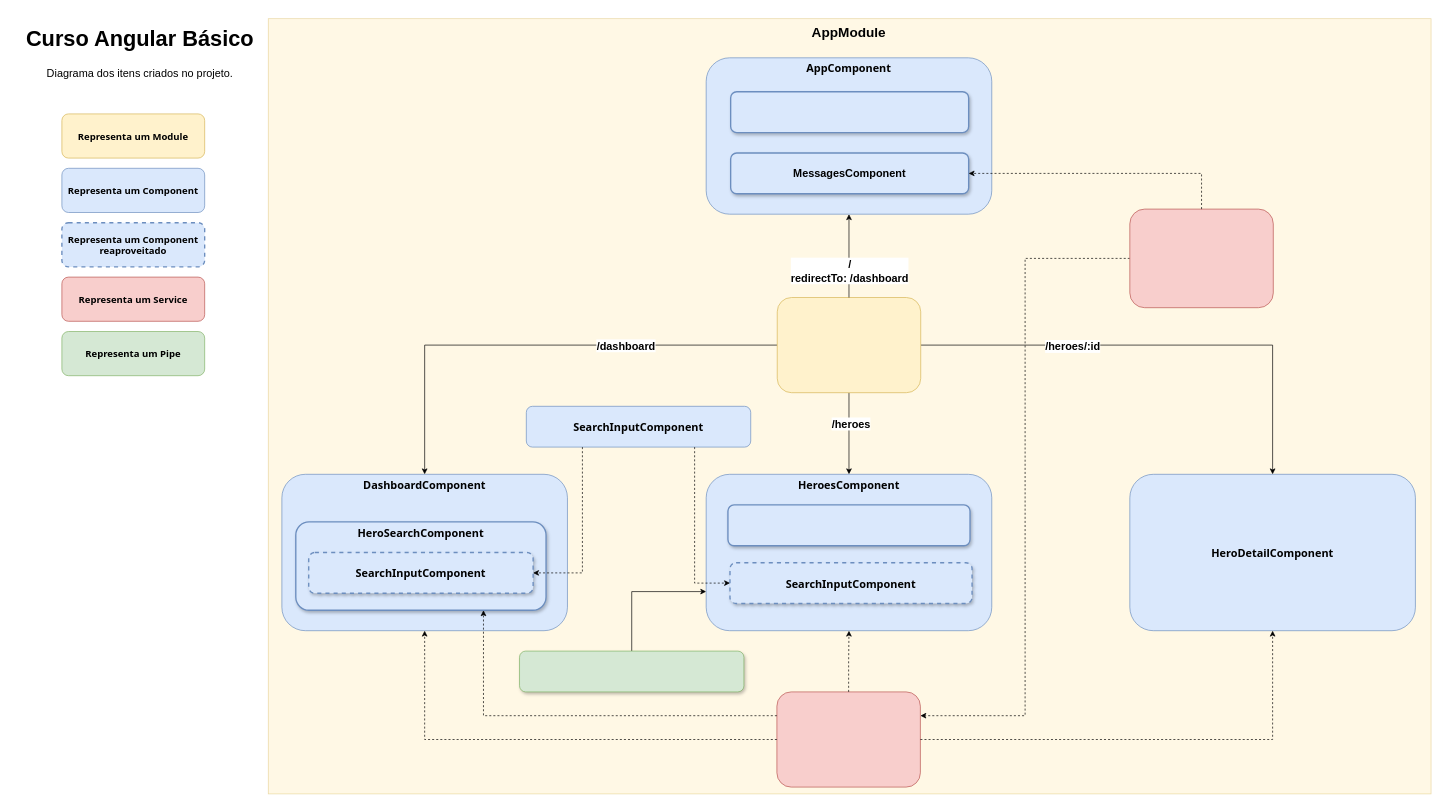
Image size: 1443x806. Some labels were removed from this diagram. The centre of each missing label's shape, as x and y in pixels:
AppRoutingModule: the point at 849,345
HeroAddComponent: the point at 849,526
HeroFilterPipe: the point at 632,672
HeroService: the point at 848,739
MessageService: the point at 1201,258
NavbarComponent: the point at 850,113
